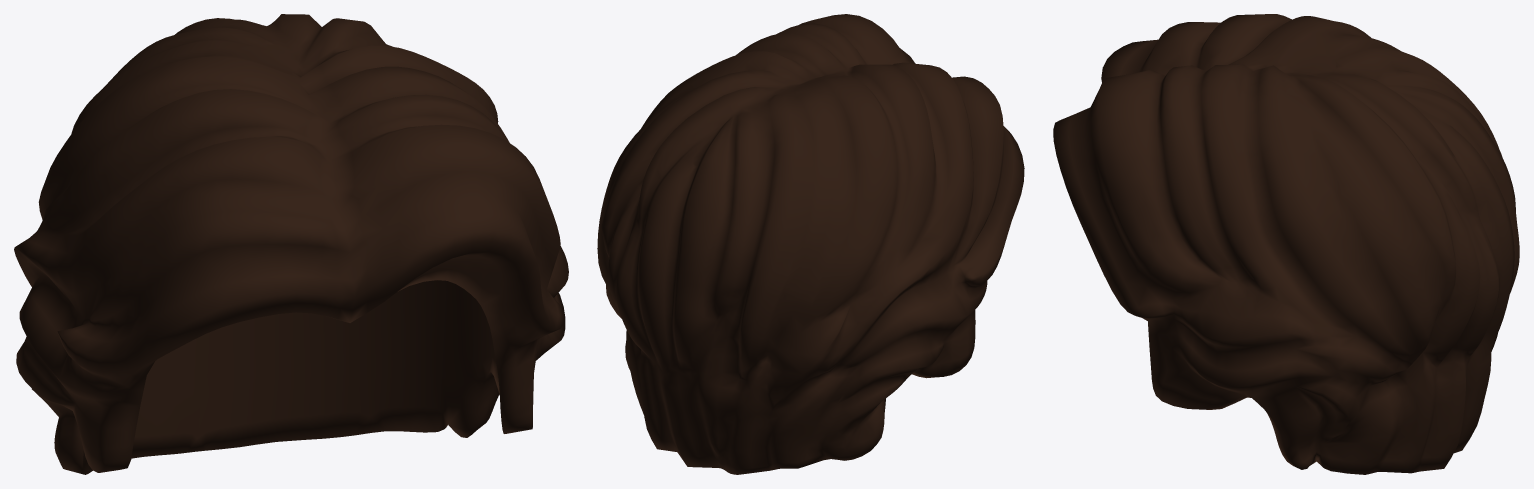
Rendered from hair.glb.
The picture shows the model from 3 angles, left to right: view 1: azimuth 30°, elevation 25°; view 2: azimuth 150°, elevation 25°; view 3: azimuth 270°, elevation 25°; orthographic projection. The views are drawn at different scales.
Visible parts, largest first — view 1: __hair_tmp; view 2: __hair_tmp; view 3: __hair_tmp.
Part boxes in pixels (<box>): __hair_tmp: <box>14,14,568,474</box>; __hair_tmp: <box>597,14,1024,474</box>; __hair_tmp: <box>1053,14,1519,474</box>.
Size of the model in its own units: 0.6212 by 0.5806 by 0.644.
